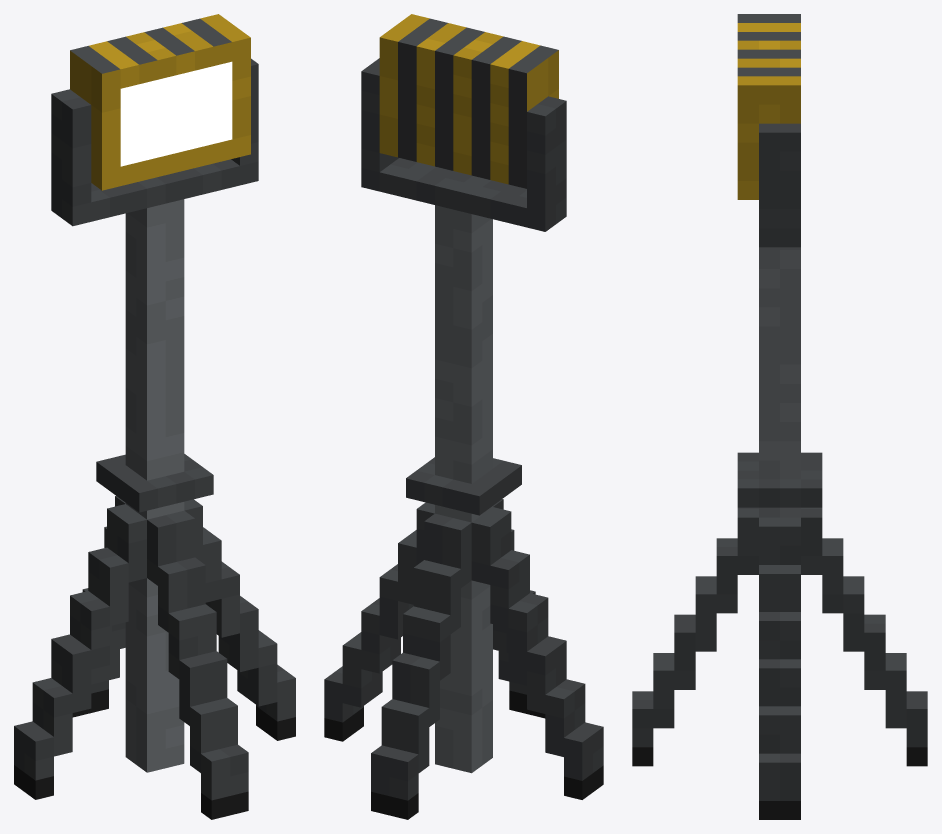
The model's file is projecteur.glb.
3 renders of one model, left to right at view 1: azimuth 30°, elevation 25°; view 2: azimuth 150°, elevation 25°; view 3: azimuth 270°, elevation 25°, orthographic.
Parts seen in each view (by area): view 1: voxel__projecteur__ns; view 2: voxel__projecteur__ns; view 3: voxel__projecteur__ns.
Boxes of the visible parts, x1,y1,x2,y2 form: voxel__projecteur__ns: (14, 14, 295, 819); voxel__projecteur__ns: (324, 14, 603, 819); voxel__projecteur__ns: (632, 14, 927, 819).
Size of the model in its own units: 0.7 by 1.85 by 0.7.
